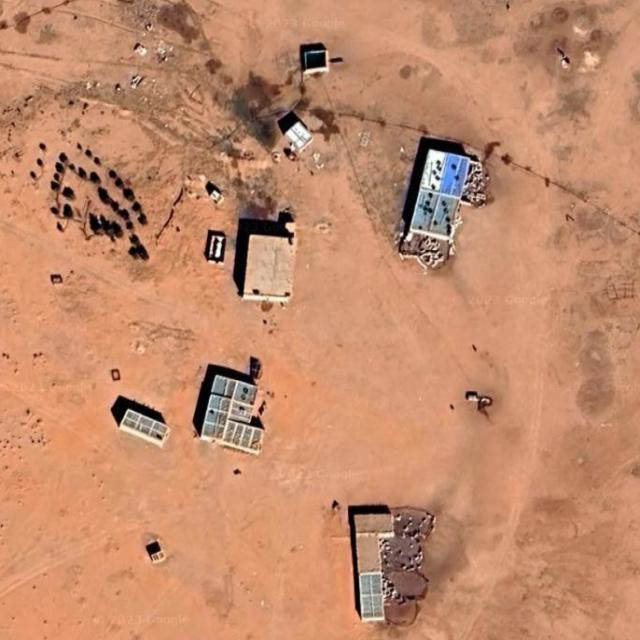Countryside roofs: (312, 489, 440, 629), (389, 141, 483, 257), (233, 208, 310, 322), (190, 370, 276, 460), (88, 389, 188, 462), (268, 110, 324, 157)
